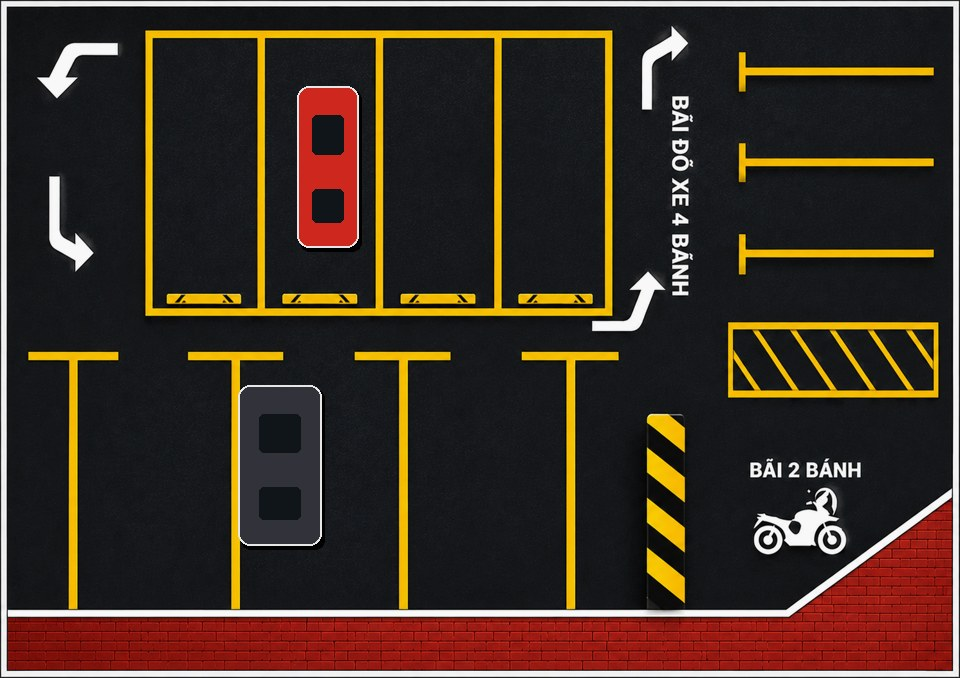empty: (35, 351, 199, 598), (360, 351, 518, 598), (524, 351, 672, 598), (148, 35, 267, 309), (386, 35, 505, 309), (505, 35, 624, 309)
occupied: (201, 351, 357, 598), (267, 35, 386, 309)
